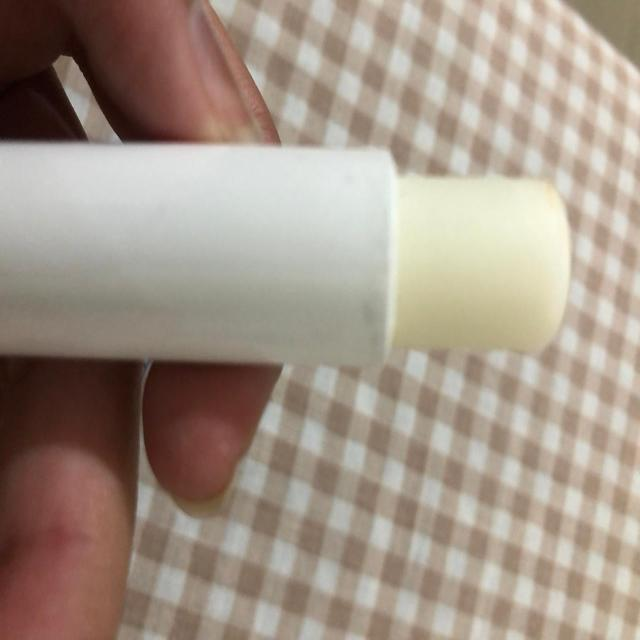lip balm: (0, 123, 586, 380)
